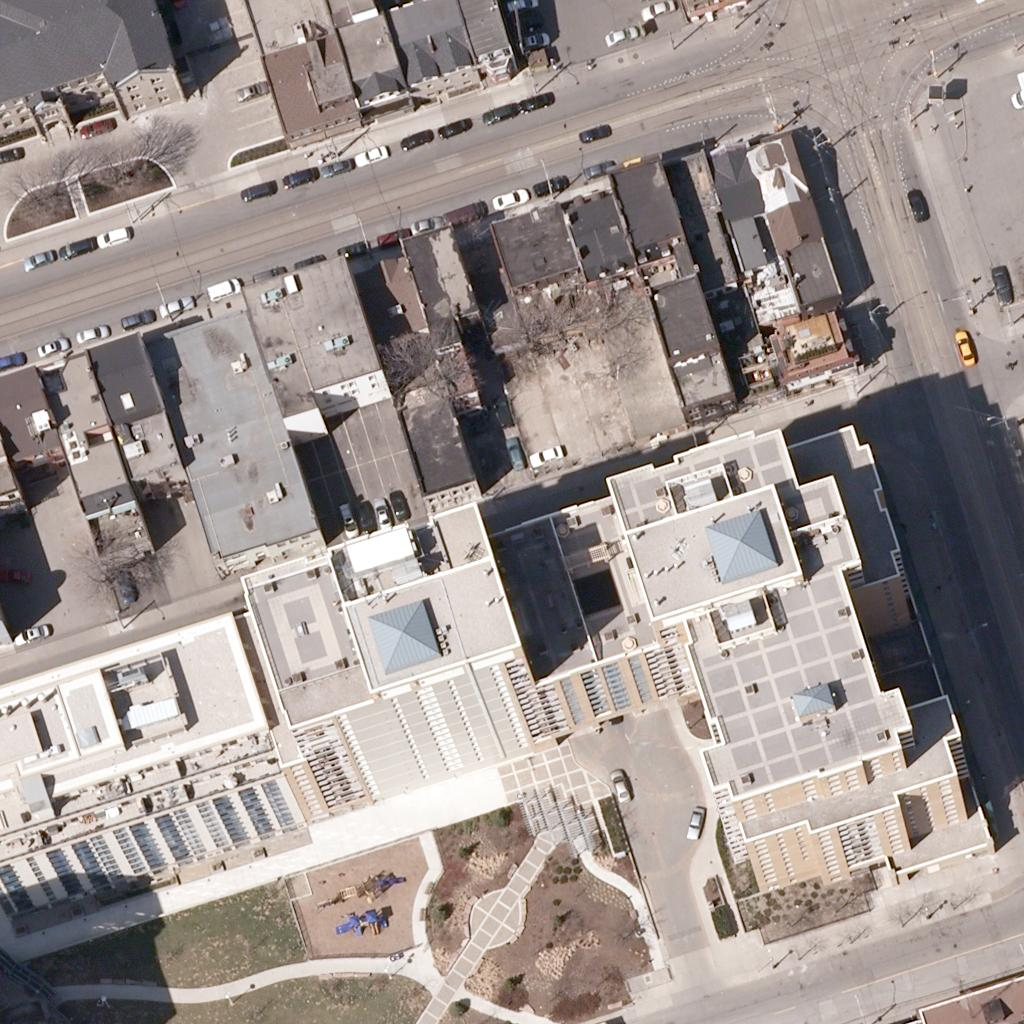car: (604, 17, 638, 51), (514, 22, 548, 56), (233, 73, 267, 107), (521, 82, 555, 116), (482, 93, 516, 127), (79, 107, 113, 141), (435, 108, 469, 142), (575, 114, 609, 148), (400, 120, 434, 154), (354, 135, 388, 169), (318, 148, 352, 182), (579, 150, 613, 184), (279, 158, 313, 192), (535, 163, 569, 197), (240, 172, 274, 206), (491, 181, 525, 215), (899, 186, 933, 220), (450, 193, 484, 227), (406, 205, 440, 239), (94, 218, 128, 252), (373, 219, 407, 253), (57, 229, 91, 263), (336, 229, 370, 263), (22, 240, 56, 274), (294, 243, 328, 277), (248, 257, 282, 291), (983, 265, 1017, 299), (208, 270, 242, 304), (156, 288, 190, 322), (116, 300, 150, 334), (72, 317, 106, 351), (35, 328, 69, 362), (947, 330, 981, 364), (529, 435, 563, 469), (496, 437, 530, 471), (382, 487, 416, 521), (362, 496, 396, 530), (347, 498, 381, 532), (330, 500, 364, 534), (107, 569, 141, 603), (13, 616, 47, 650), (14, 617, 48, 651), (603, 769, 637, 803), (678, 800, 712, 834), (678, 801, 712, 835), (0, 557, 29, 591), (641, 0, 675, 24), (0, 342, 23, 376), (0, 137, 22, 171), (1005, 78, 1024, 112)
